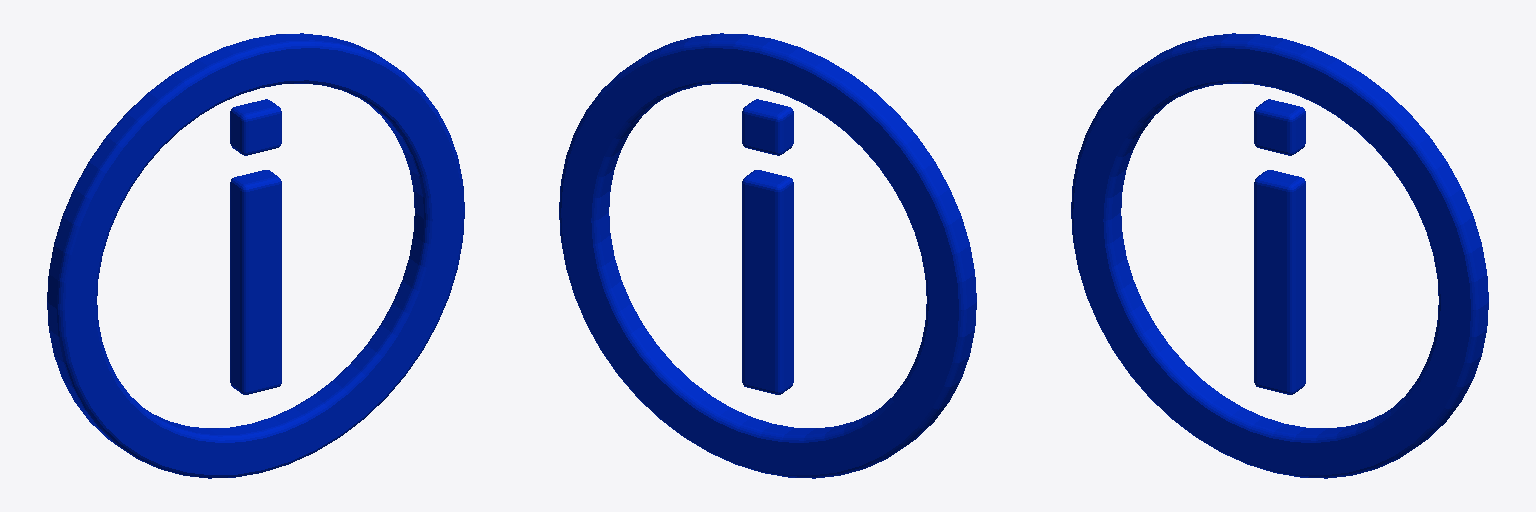
Rendered from info1.obj.
3 views of the same model, side by side, from view 1: azimuth 30°, elevation 25°; view 2: azimuth 150°, elevation 25°; view 3: azimuth 330°, elevation 25° (orthographic).
Parts seen in each view (by area): view 1: node_id30_mesh_id31; view 2: node_id30_mesh_id31; view 3: node_id30_mesh_id31.
Part boxes in pixels (left/top/right/bottom): node_id30_mesh_id31: left=47, top=33, right=464, bottom=478; node_id30_mesh_id31: left=559, top=33, right=976, bottom=478; node_id30_mesh_id31: left=1071, top=33, right=1488, bottom=478.
Bounding box in the file's own units: 0.512 × 0.512 × 0.034.